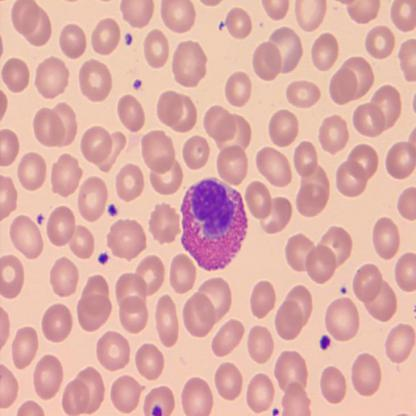Eosinophil: (179, 175, 248, 269)
